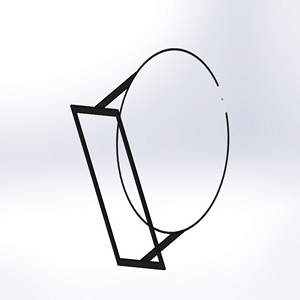circle: (68, 44, 233, 273)
